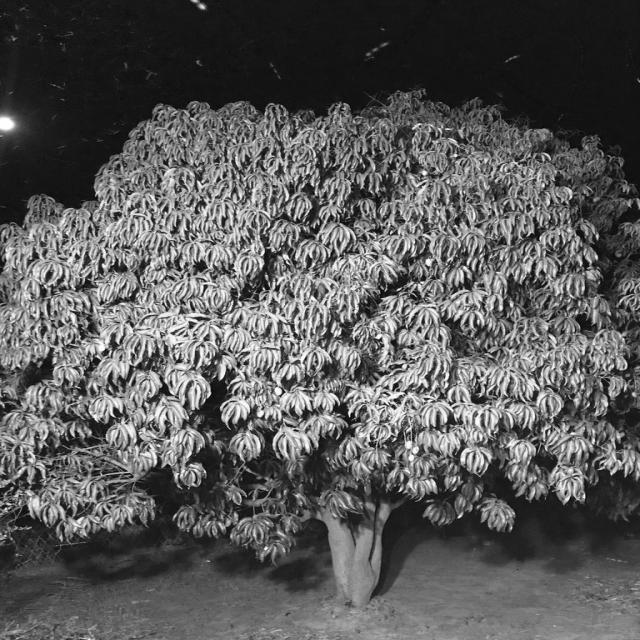Mango-Tree: (14, 115, 640, 581)
